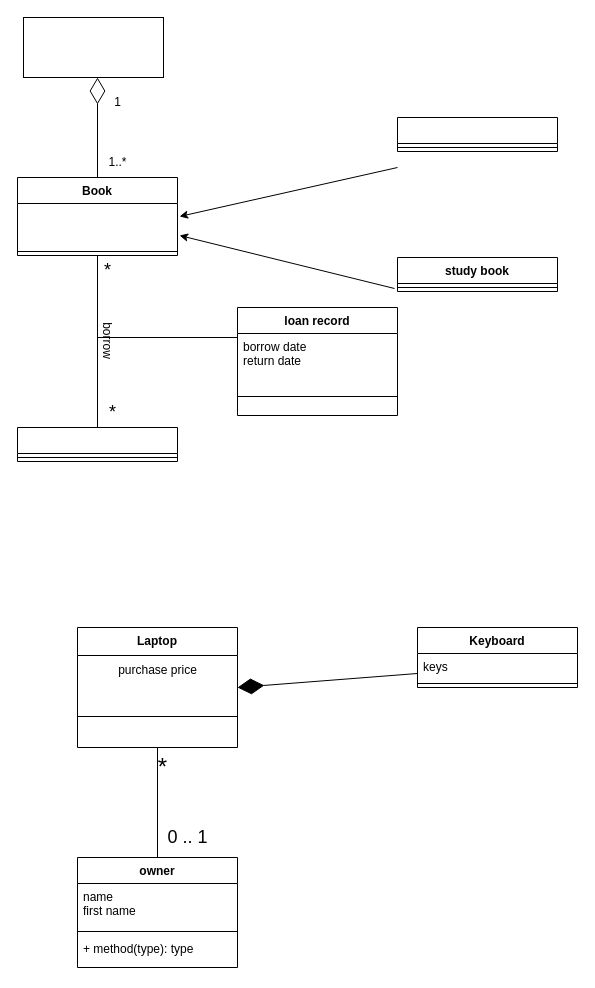
The diagram is 595 pixels wide and 988 high, and some of its shapes have lost their labels. Each missing label, with the centre of its shape:
Library: the point at 93,47
Magazine: the point at 477,134
member: the point at 97,444
